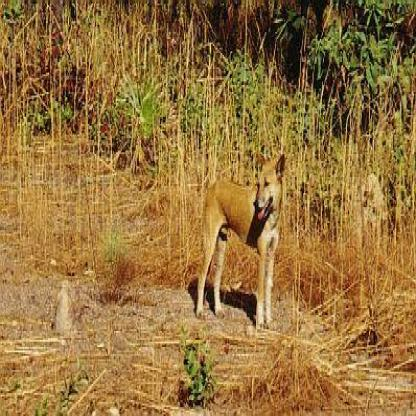dingo: (194, 147, 288, 331)
